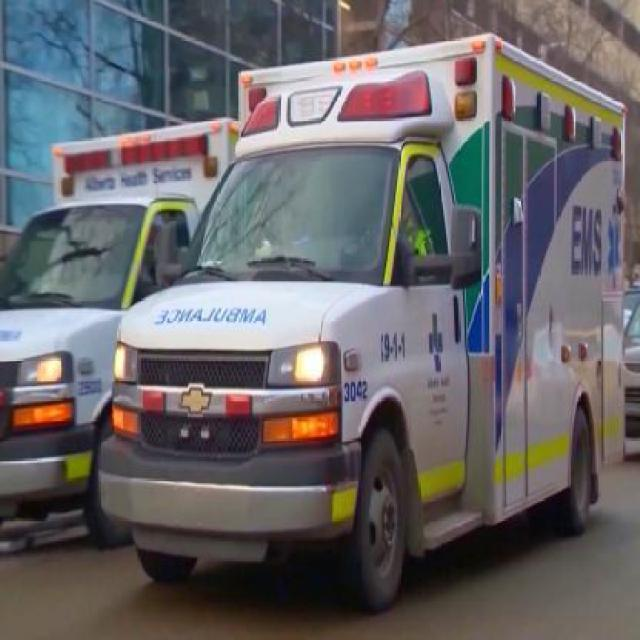emergency: (91, 32, 629, 612), (1, 116, 248, 556)
